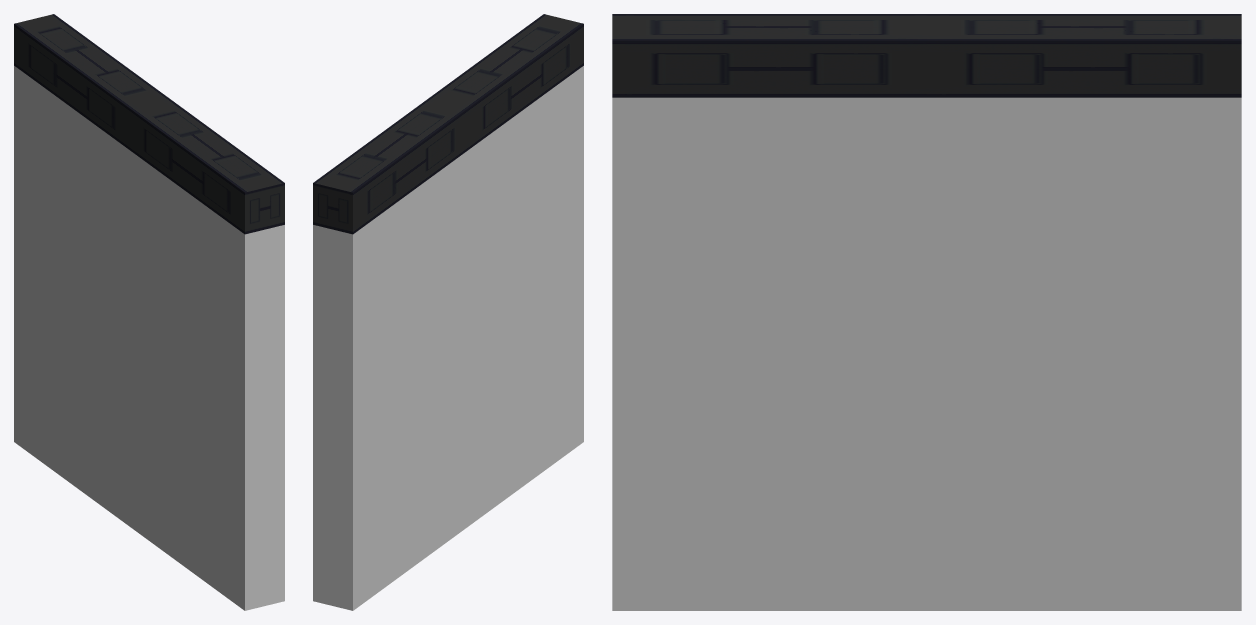
The model's file is tiles_wall_door_bottom.glb.
3 views of the same model, side by side, from view 1: azimuth 30°, elevation 25°; view 2: azimuth 150°, elevation 25°; view 3: azimuth 270°, elevation 25° (orthographic). The views are drawn at different scales.
Parts seen in each view (by area): view 1: Wall_Door; view 2: Wall_Door; view 3: Wall_Door.
Boxes of the visible parts, bbox=[...] form: Wall_Door: bbox=[14, 14, 284, 610]; Wall_Door: bbox=[313, 14, 583, 610]; Wall_Door: bbox=[612, 14, 1241, 610].
Size of the model in its own units: 0.2 by 2 by 2.
Materials: 2 (1 with a texture image).
